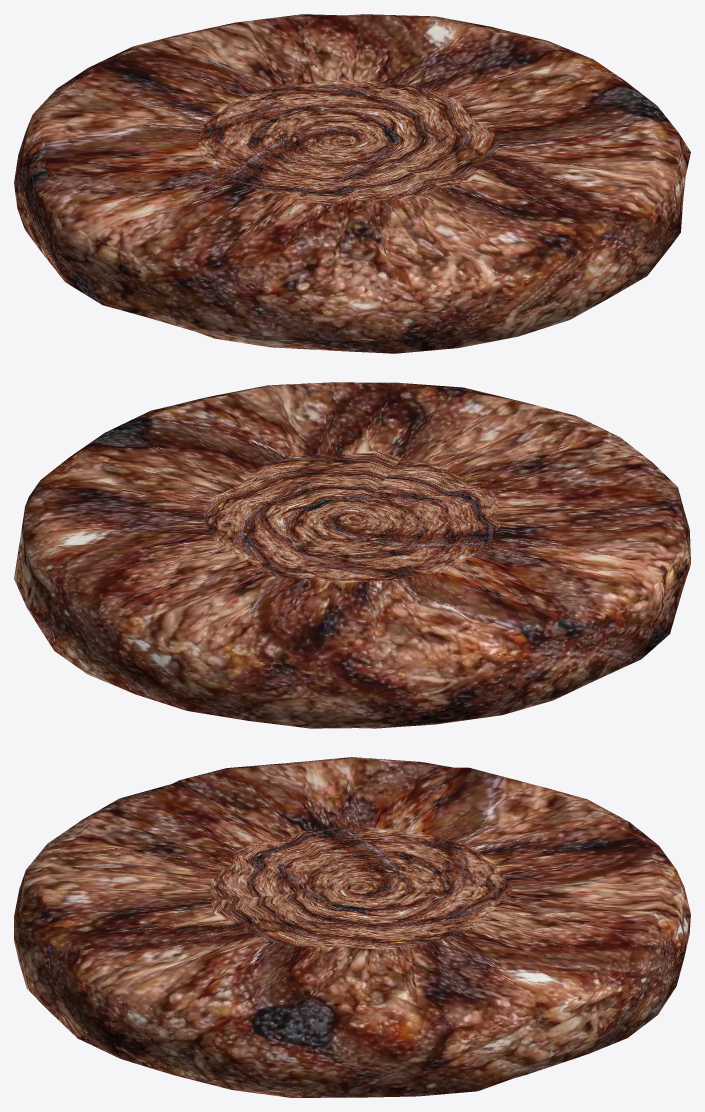
File: patty.gltf
The picture shows the model from 3 angles, top to bottom: view 1: azimuth 30°, elevation 25°; view 2: azimuth 150°, elevation 25°; view 3: azimuth 270°, elevation 25°; orthographic projection.
Parts seen in each view (by area): view 1: Cylinder.002; view 2: Cylinder.002; view 3: Cylinder.002.
Part boxes in pixels (x1,y1,x2,y2): Cylinder.002: (14, 14, 690, 353); Cylinder.002: (14, 382, 690, 728); Cylinder.002: (14, 757, 690, 1097).
Bounding box in the file's own units: 5.42 × 0.7067 × 5.38.
Materials: 1 (1 with a texture image).
